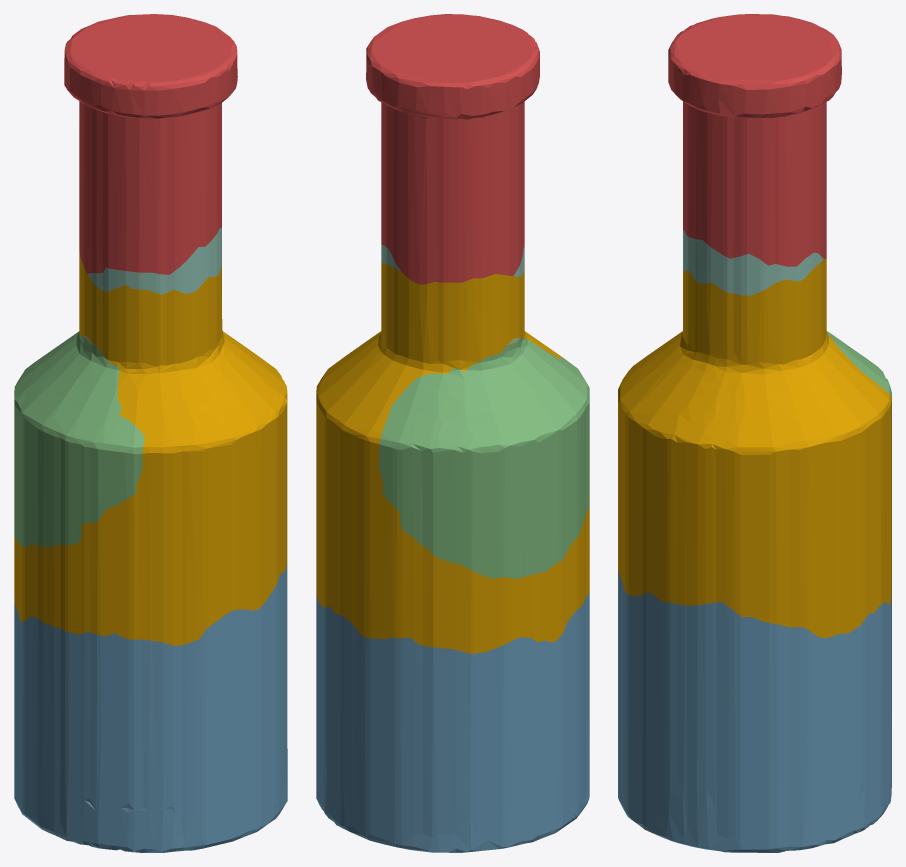
Rendered from fractured_76_6pcs.glb.
3 renders of one model, left to right at view 1: azimuth 30°, elevation 25°; view 2: azimuth 150°, elevation 25°; view 3: azimuth 270°, elevation 25°, orthographic.
Parts seen in each view (by area): view 1: piece_0.obj, piece_2.obj, piece_1.obj, piece_3.obj, piece_4.obj; view 2: piece_2.obj, piece_0.obj, piece_3.obj, piece_1.obj; view 3: piece_0.obj, piece_2.obj, piece_1.obj, piece_4.obj, piece_3.obj.
Boxes of the visible parts, bbox=[...] form: piece_0.obj: bbox=[14, 252, 287, 645]; piece_2.obj: bbox=[14, 560, 287, 852]; piece_1.obj: bbox=[64, 14, 237, 274]; piece_3.obj: bbox=[14, 331, 144, 547]; piece_4.obj: bbox=[88, 228, 221, 294]; piece_2.obj: bbox=[316, 587, 589, 852]; piece_0.obj: bbox=[316, 261, 589, 653]; piece_3.obj: bbox=[378, 337, 589, 578]; piece_1.obj: bbox=[366, 14, 539, 284]; piece_0.obj: bbox=[618, 258, 891, 638]; piece_2.obj: bbox=[618, 570, 891, 852]; piece_1.obj: bbox=[668, 14, 841, 266]; piece_4.obj: bbox=[683, 230, 823, 295]; piece_3.obj: bbox=[647, 331, 891, 447].
Bounding box in the file's own units: 0.3308 × 1 × 0.3308.
